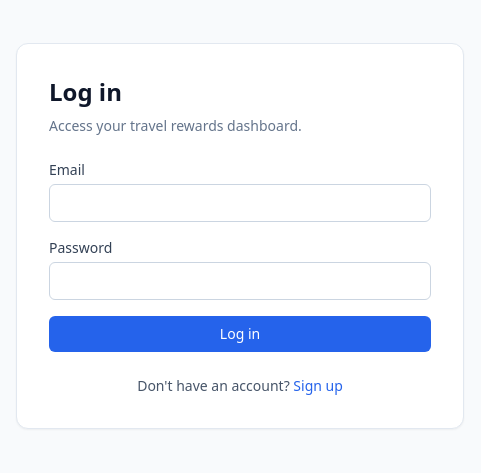
Test case: LoginPage validation › rejects an invalid email
In the field labelled "Email": (240, 203) left=49, top=184, right=431, bottom=222, type "user@invalid"
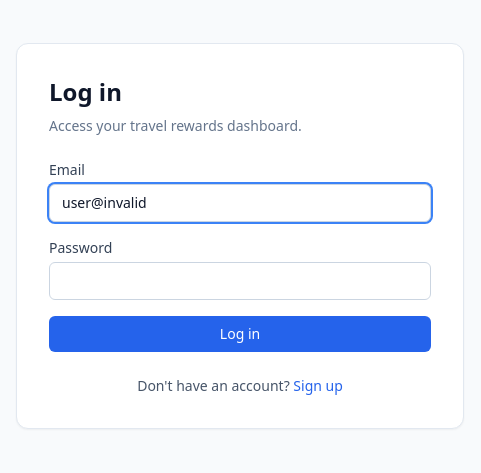
In the password field labelled "Password": (240, 281) left=49, top=262, right=431, bottom=300, type "password123"
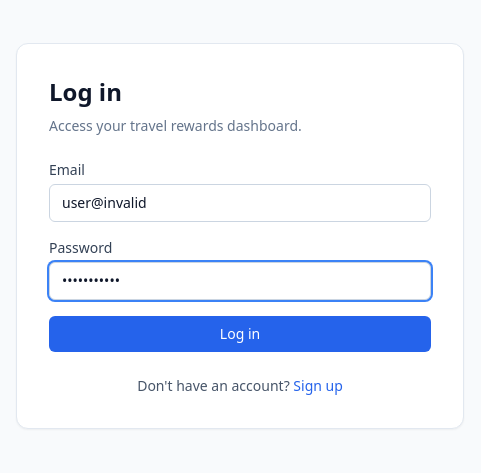
Click the button "Log in": (240, 334) left=49, top=316, right=431, bottom=352
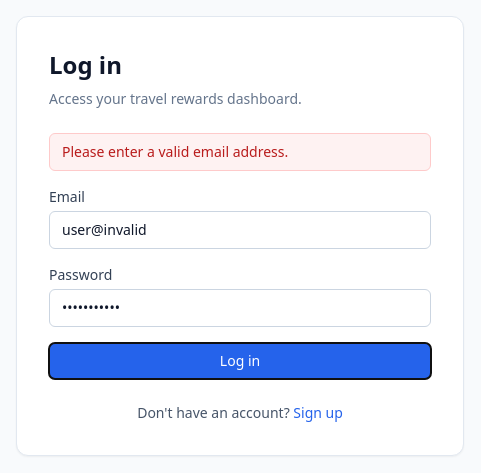
Now the text "Please enter a valid email address." is shown, box left=49, top=133, right=431, bottom=171
